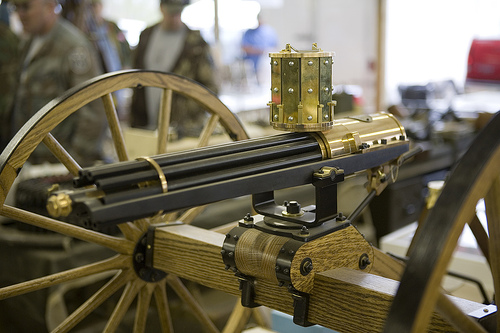rifle: (41, 74, 447, 251)
